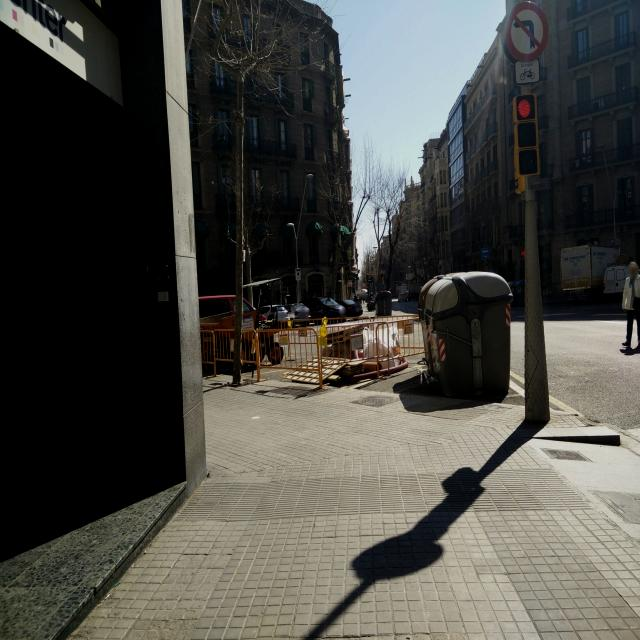car: (198, 291, 262, 371), (296, 294, 346, 322), (258, 303, 288, 324), (335, 297, 363, 316), (374, 290, 394, 315)
